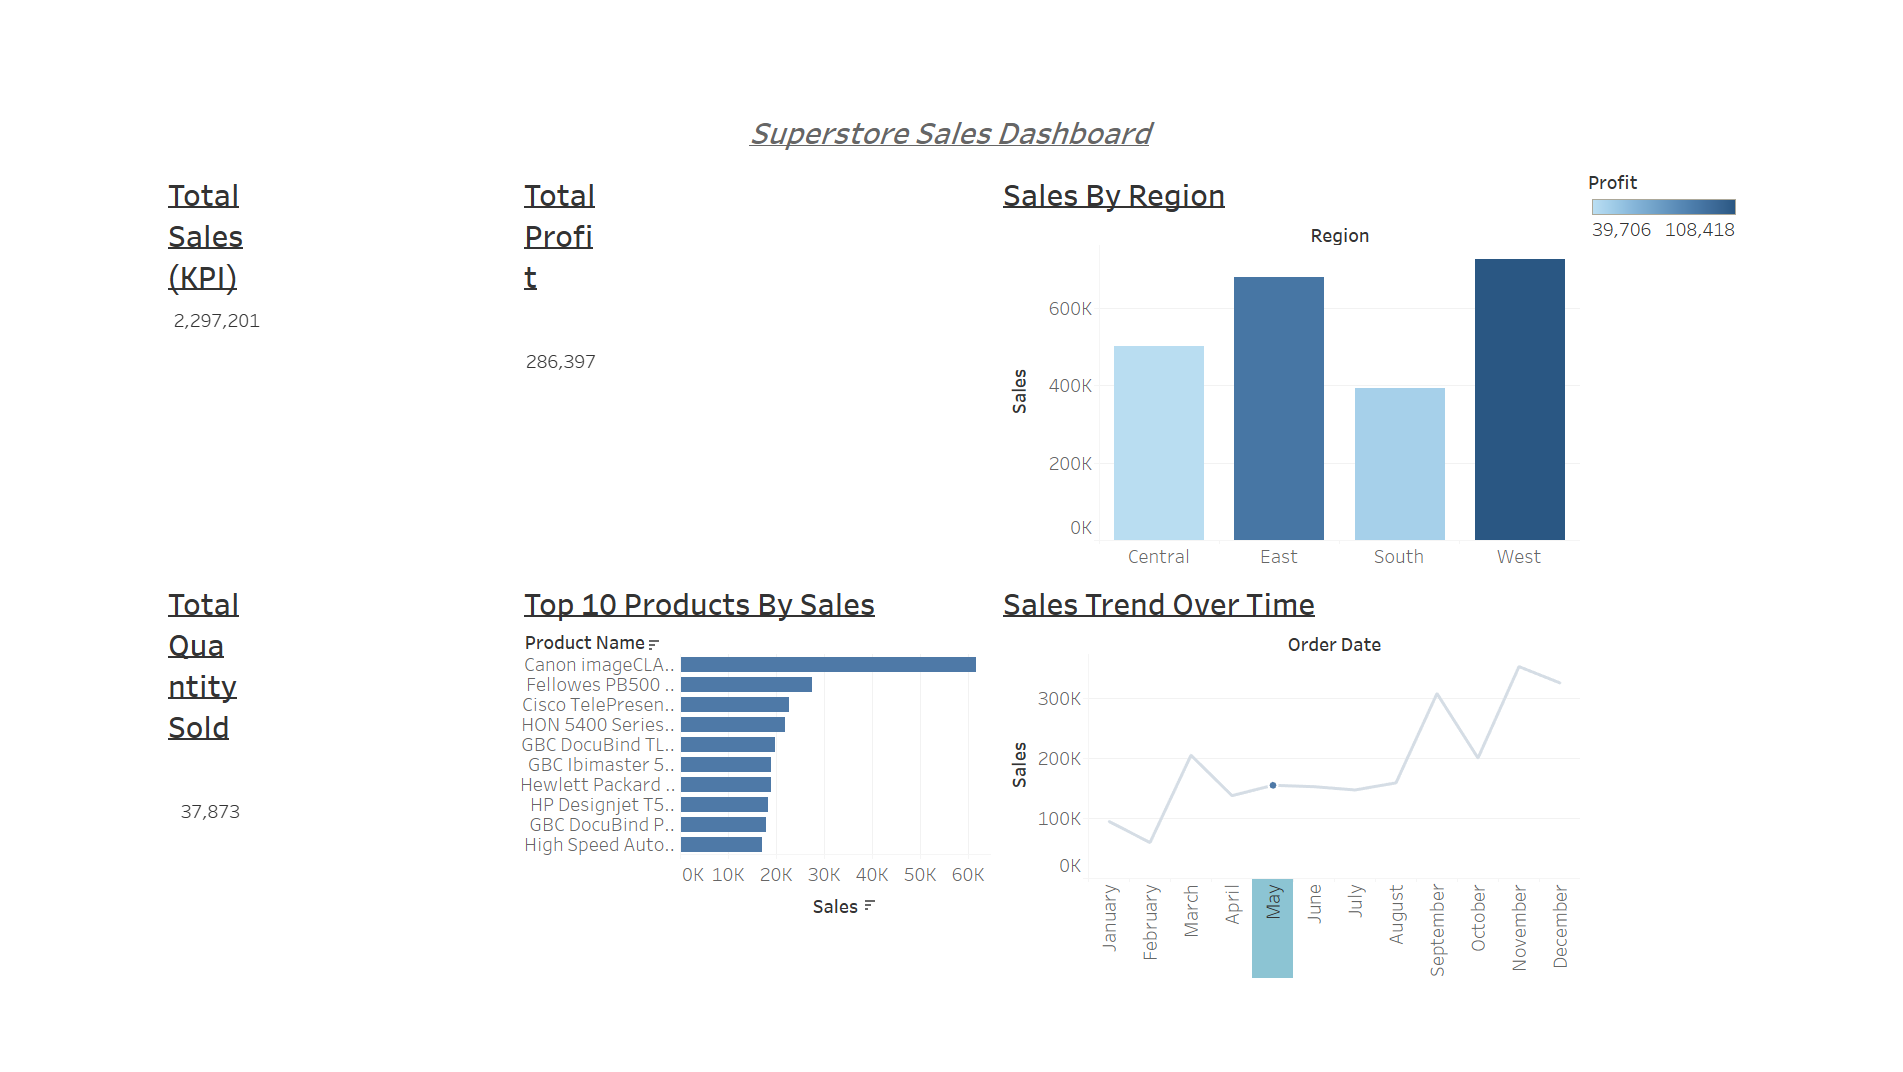

What the dashboard file says about the page in this screenshot:
{"tool":"tableau","page":{"name":"Dashboard 1","canvas":[1000,1000],"units":"permille","ordinal":0},"visuals":[{"type":"text","box":[5.1,9.5,989.9,74.9]},{"type":"worksheet","title":"Sheet 1","mark":"Automatic","box":[5.1,84.4,222.1,453]},{"type":"worksheet","title":"Sheet 2","mark":"Automatic","box":[227.2,84.4,299.1,453]},{"type":"worksheet","title":"Sheet 5","mark":"Automatic","rows":["Sales"],"cols":["Region"],"box":[526.2,84.4,367.4,453]},{"type":"legend","title":"Sheet 5","param":"[federated.1it3qlx057htw117y4rsa017xpse].[sum:Profit:qk]","box":[893.6,84.4,101.3,96.3]},{"type":"worksheet","title":"Sheet 3","mark":"Automatic","box":[5.1,537.4,222.1,453.1]},{"type":"worksheet","title":"Sheet 6","mark":"Automatic","rows":["Product Name"],"cols":["Sales"],"box":[227.2,537.4,299.1,453.1]},{"type":"worksheet","title":"Sheet 4","mark":"Line","rows":["Sales"],"cols":["Order Date"],"box":[526.2,537.4,367.4,453.1]}]}

Visuals, with their boxes on the dashboard's canvas, which has no fixed pixel size, in thousandths of its width and height (x1, y1, x2, y2). These are canvas units, not pixel positions in the 1903x1072 screenshot, which may show the page scaled, cropped or inside an application window:
text: locate(5, 10, 995, 84)
"Sheet 1" worksheet: locate(5, 84, 227, 537)
"Sheet 2" worksheet: locate(227, 84, 526, 537)
"Sheet 5" worksheet: locate(526, 84, 894, 537)
"Sheet 5" legend: locate(894, 84, 995, 181)
"Sheet 3" worksheet: locate(5, 537, 227, 990)
"Sheet 6" worksheet: locate(227, 537, 526, 990)
"Sheet 4" worksheet (Line marks): locate(526, 537, 894, 990)
